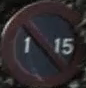No waiting: (5, 4, 76, 79)
